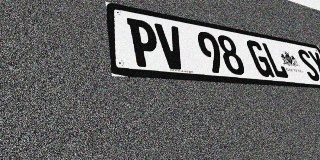8: (215, 34, 247, 75)
9: (195, 30, 228, 74)
G: (245, 39, 275, 78)
L: (261, 42, 290, 79)
P: (127, 18, 162, 68)
S: (295, 48, 320, 81)
V: (154, 23, 188, 70)
X: (307, 51, 320, 82)
